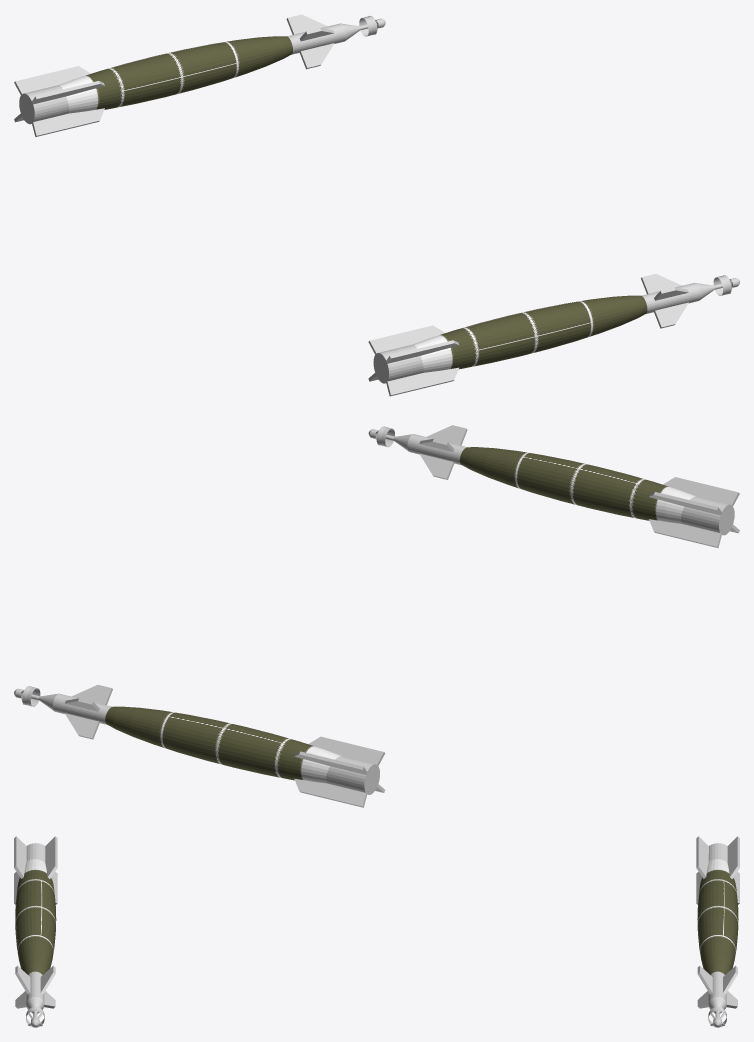
Rendered from f16gbu1014.glb.
The picture shows the model from 3 angles, top to bottom: view 1: azimuth 30°, elevation 25°; view 2: azimuth 150°, elevation 25°; view 3: azimuth 270°, elevation 25°; orthographic projection. The views are drawn at different scales.
Visible parts, largest first — view 1: 球.002, 球.015; view 2: 球.002, 球.015; view 3: 球.015, 球.002.
Part boxes in pixels (x1=…): 球.002: x1=368, y1=274, x2=739, y2=396; 球.015: x1=14, y1=14, x2=385, y2=136; 球.002: x1=368, y1=425, x2=739, y2=548; 球.015: x1=14, y1=685, x2=385, y2=807; 球.015: x1=696, y1=836, x2=739, y2=1027; 球.002: x1=14, y1=836, x2=57, y2=1027.
Size of the model in its own units: 4.24 by 0.4634 by 7.7.
1 material, 1 textured.
